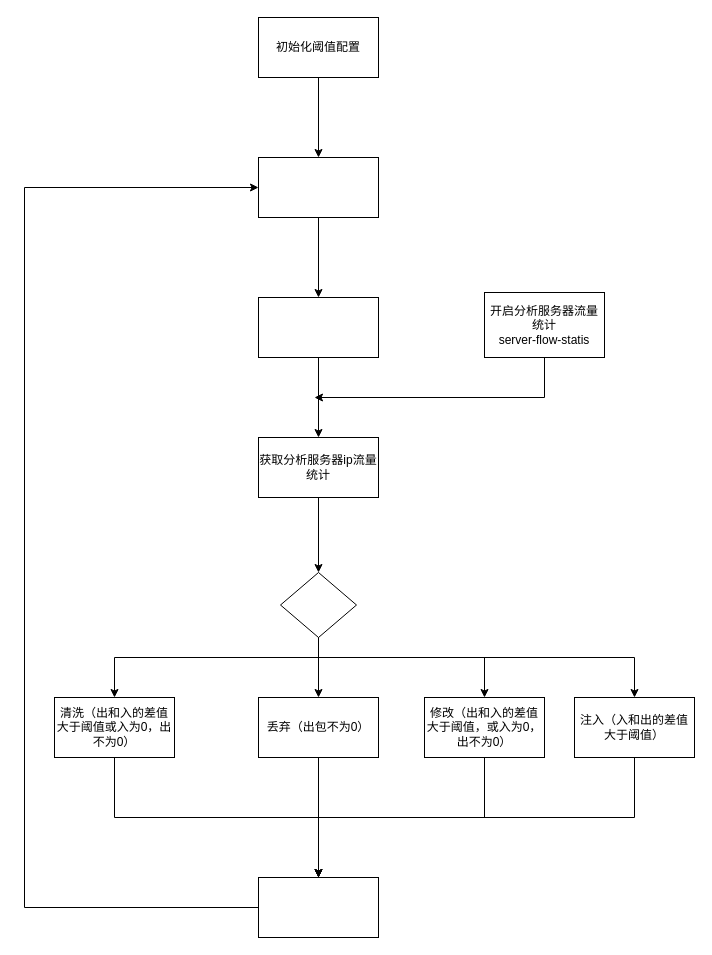
This 712x955 diagram has some shape labels left out. Each missing label, with the box of its shape:
下次循环: (258, 876, 378, 938)
更新阈值配置: (258, 296, 378, 358)
检测阈值: (280, 572, 356, 638)
等待5分钟: (258, 156, 378, 218)
